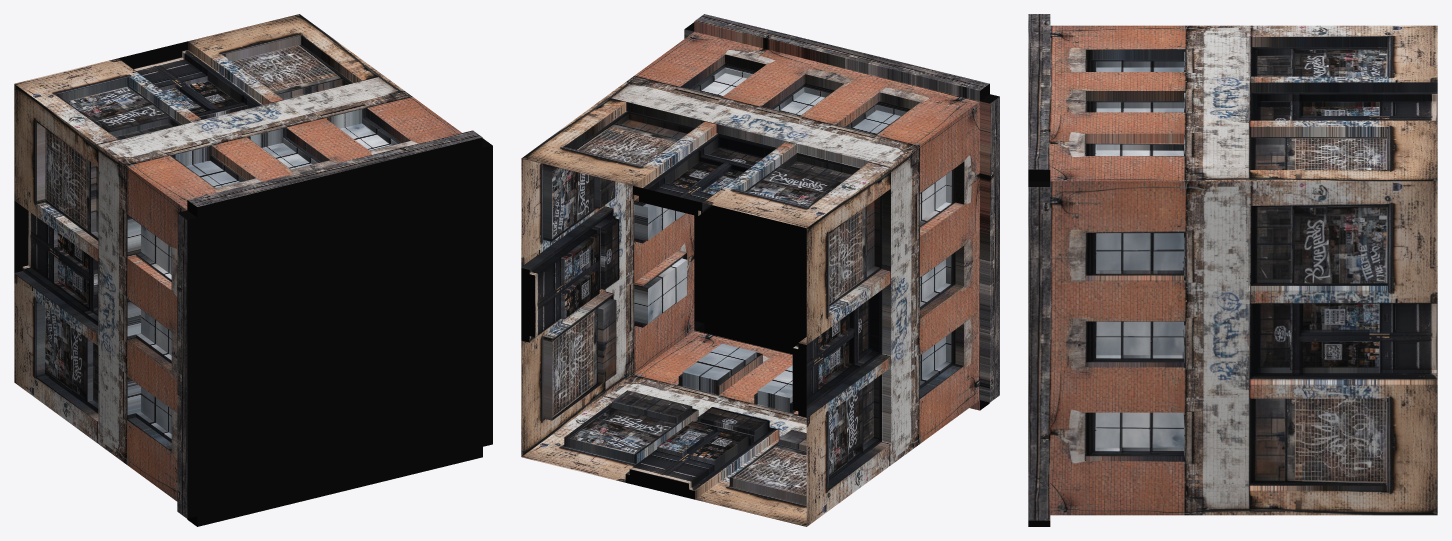
The model's file is old_building_2.obj.
3 views of the same model, side by side, from view 1: azimuth 30°, elevation 25°; view 2: azimuth 150°, elevation 25°; view 3: azimuth 270°, elevation 25° (orthographic). The views are drawn at different scales.
Parts seen in each view (by area): view 1: Building_1.003_Building_1_0; view 2: Building_1.003_Building_1_0; view 3: Building_1.003_Building_1_0.
Boxes of the visible parts, x1=… form: Building_1.003_Building_1_0: x1=14, y1=14, x2=492, y2=526; Building_1.003_Building_1_0: x1=521, y1=14, x2=999, y2=526; Building_1.003_Building_1_0: x1=1028, y1=14, x2=1437, y2=526.
Bounding box in the file's own units: 6.32 × 6.32 × 6.56.
3 materials, 3 textured.
